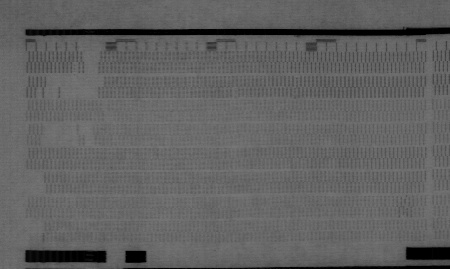Broken hole: (33, 77, 106, 100), (40, 123, 96, 147), (25, 216, 47, 245), (27, 167, 48, 196), (79, 51, 103, 76), (99, 99, 117, 124), (71, 62, 85, 75)
Oblique printing: (398, 194, 411, 218), (289, 76, 302, 99)
